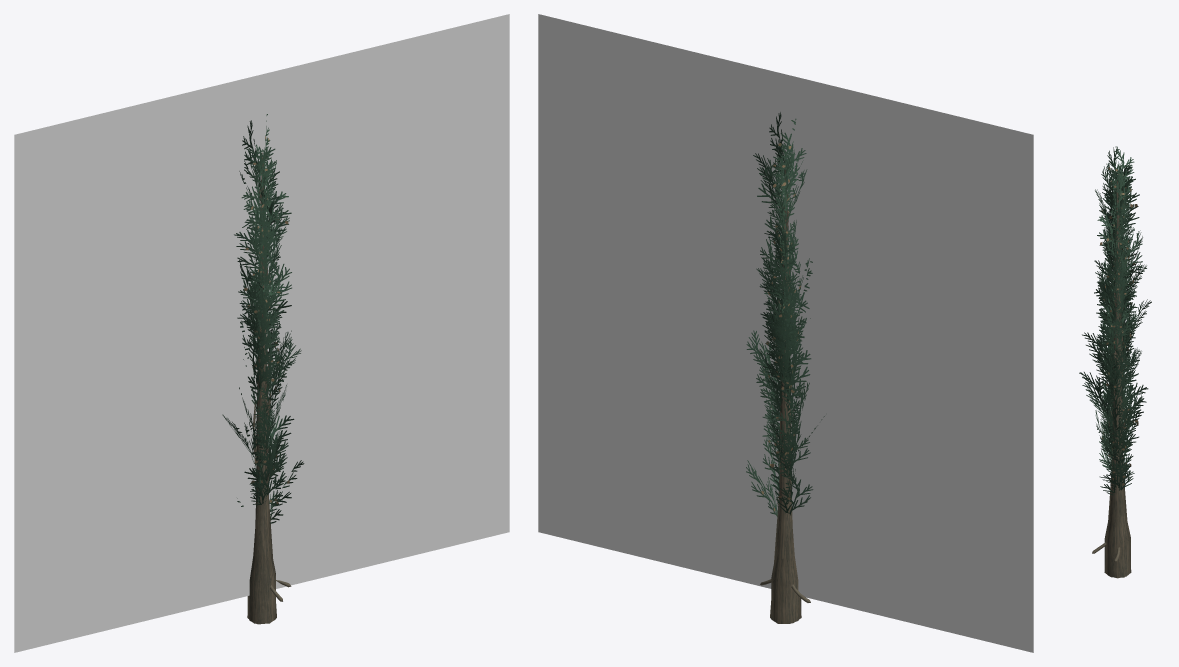
The model's file is cypres_jeune_a.fbx.
3 views of the same model, side by side, from view 1: azimuth 30°, elevation 25°; view 2: azimuth 150°, elevation 25°; view 3: azimuth 270°, elevation 25° (orthographic). The views are drawn at different scales.
Parts seen in each view (by area): view 1: cypres_jeune_a_LOD3, cypres_jeune_a_LOD1, cypres_jeune_a_LOD2; view 2: cypres_jeune_a_LOD3, cypres_jeune_a_LOD1, cypres_jeune_a_LOD2; view 3: cypres_jeune_a_LOD1, cypres_jeune_a_LOD2.
Boxes of the visible parts, x1=… form: cypres_jeune_a_LOD3: x1=14, y1=14, x2=509, y2=652; cypres_jeune_a_LOD1: x1=222, y1=114, x2=304, y2=624; cypres_jeune_a_LOD2: x1=247, y1=157, x2=276, y2=623; cypres_jeune_a_LOD3: x1=538, y1=14, x2=1033, y2=652; cypres_jeune_a_LOD1: x1=746, y1=112, x2=824, y2=623; cypres_jeune_a_LOD2: x1=770, y1=170, x2=801, y2=623; cypres_jeune_a_LOD1: x1=1079, y1=146, x2=1151, y2=578; cypres_jeune_a_LOD2: x1=1104, y1=181, x2=1131, y2=577.
Size of what is drawn, in the model's own units: 4.44 by 4.66 by 0.9457.
